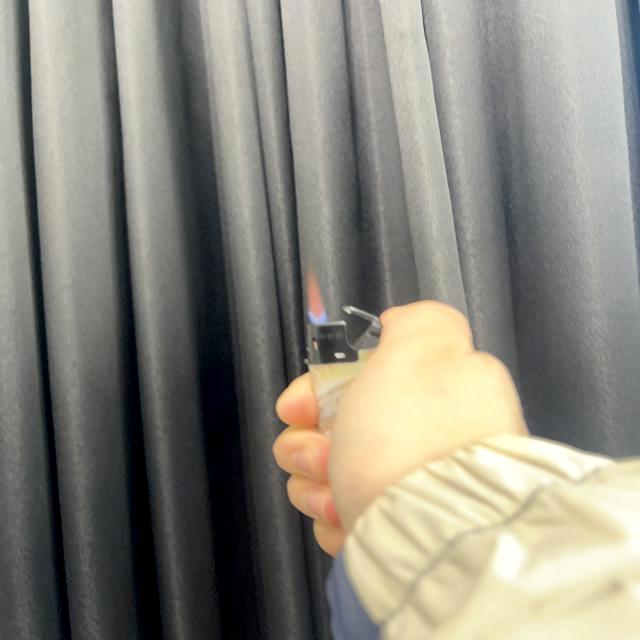fire: (305, 267, 327, 325)
